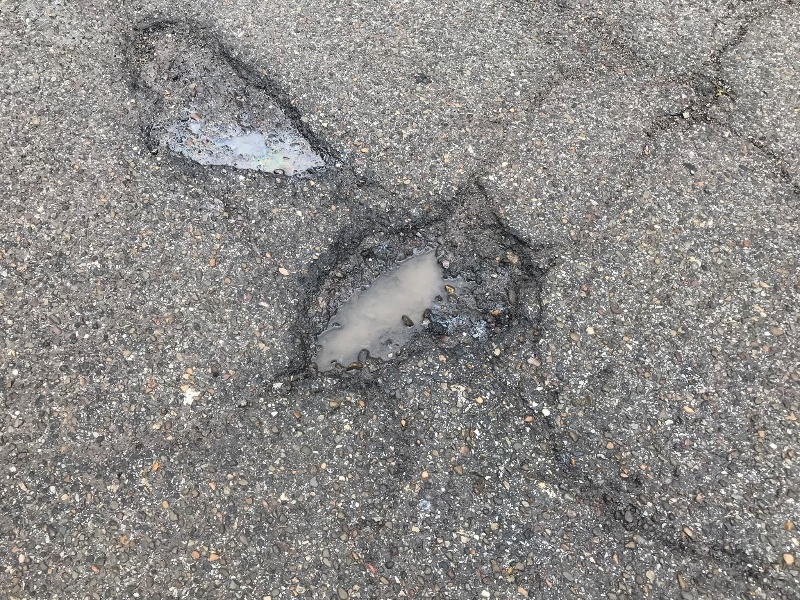pothole: (283, 203, 565, 383), (123, 17, 336, 193)
